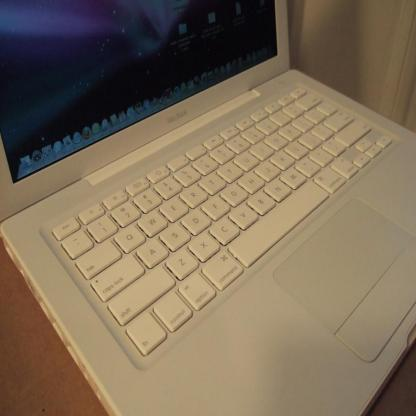board: (15, 0, 415, 405)
